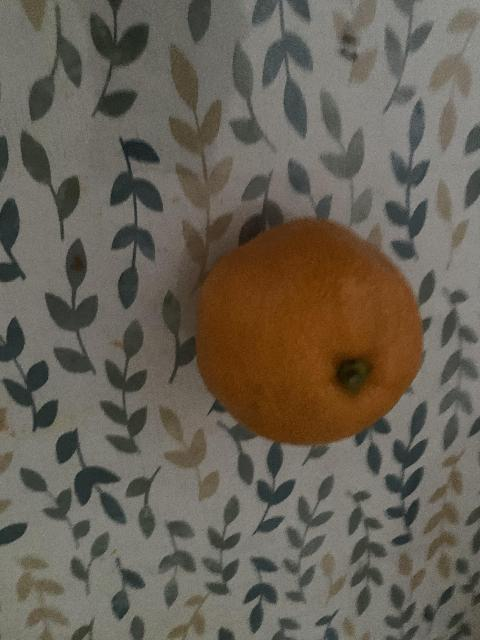Organik: (192, 219, 425, 438)
